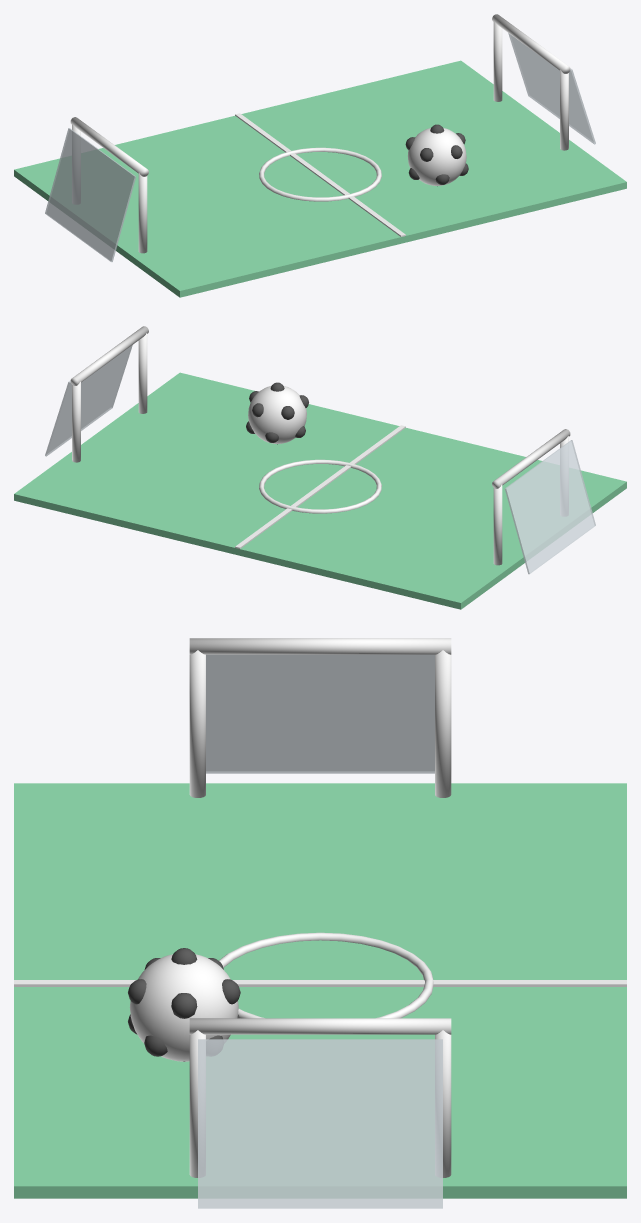
The model's file is place_football.glb.
3 renders of one model, top to bottom at view 1: azimuth 30°, elevation 25°; view 2: azimuth 150°, elevation 25°; view 3: azimuth 270°, elevation 25°, orthographic. The views are drawn at different scales.
Visible parts, largest first — view 1: Field, Net-1, Net1, Ball, Circle, Mid, Bar-1, Bar1, Post-1-1.8, Post11.8, Post1-1.8, Post-11.8; view 2: Field, Net-1, Net1, Ball, Circle, Mid, Bar-1, Bar1, Post-11.8, Post1-1.8, Post11.8, Post-1-1.8; view 3: Field, Net1, Net-1, Ball, Bar-1, Bar1, Mid, Circle, Post-1-1.8, Post-11.8, Post1-1.8, Post11.8.
Part boxes in pixels (box(x1,y1,x2,y2)): Field: box(14, 60, 626, 297); Net-1: box(45, 128, 135, 262); Net1: box(508, 33, 595, 144); Ball: box(407, 128, 466, 185); Circle: box(259, 147, 381, 201); Mid: box(235, 113, 405, 236); Bar-1: box(70, 117, 148, 176); Bar1: box(492, 14, 570, 73); Post-1-1.8: box(138, 172, 147, 253); Post11.8: box(493, 21, 502, 101); Post1-1.8: box(560, 69, 568, 150); Post-11.8: box(72, 124, 80, 203); Field: box(14, 372, 626, 609); Net-1: box(505, 440, 595, 574); Net1: box(45, 345, 132, 456); Ball: box(248, 386, 306, 443); Circle: box(259, 459, 381, 513); Mid: box(235, 425, 405, 548); Bar-1: box(492, 429, 570, 488); Bar1: box(70, 326, 148, 385); Post-11.8: box(493, 484, 502, 565); Post1-1.8: box(138, 333, 147, 413); Post11.8: box(72, 381, 80, 462); Post-1-1.8: box(560, 436, 568, 515); Field: box(14, 783, 626, 1198); Net1: box(198, 1039, 442, 1208); Net-1: box(206, 654, 434, 773); Ball: box(129, 954, 238, 1061); Bar-1: box(189, 638, 451, 654); Bar1: box(189, 1018, 451, 1034); Mid: box(14, 980, 626, 986); Circle: box(219, 932, 433, 1018); Post-1-1.8: box(189, 650, 205, 797); Post-11.8: box(435, 650, 451, 797); Post1-1.8: box(189, 1030, 205, 1177); Post11.8: box(435, 1030, 451, 1177).
Size of the model in its own units: 15.19 by 2.72 by 9.
